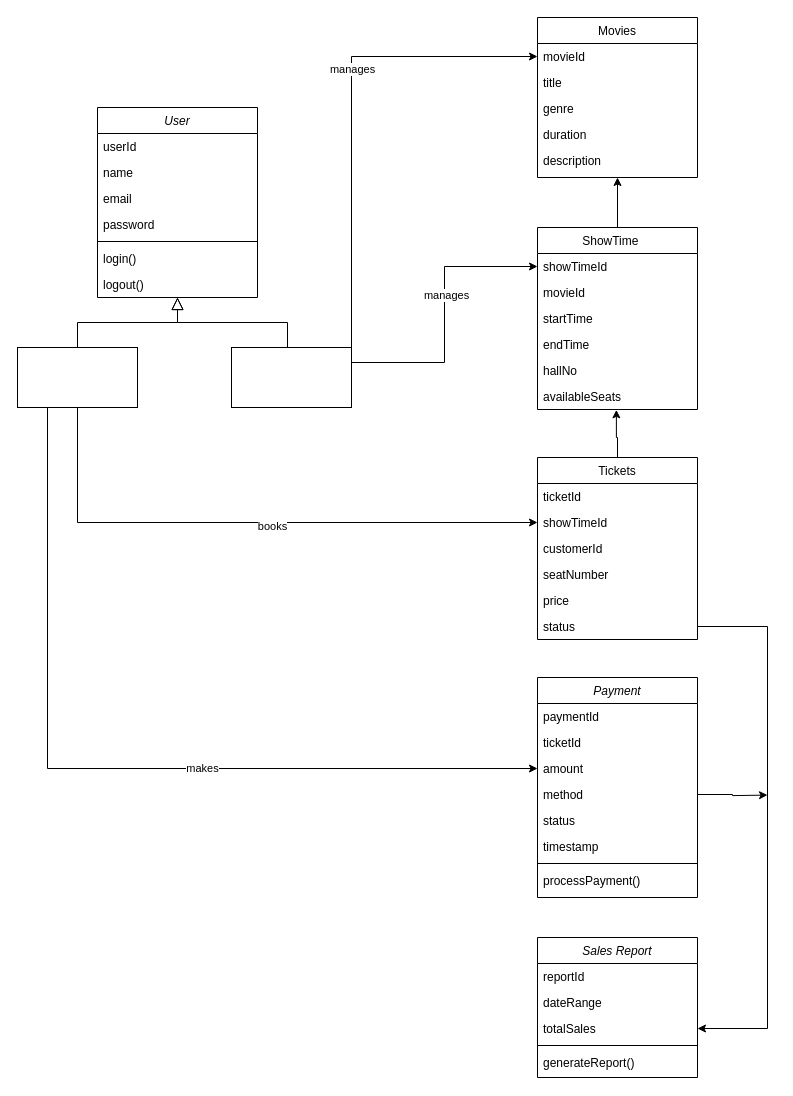
This 793x1096 diagram has some shape labels left out. The centre of each missing label's shape, as x and y in pixels:
Admin: the point at 291,377
Customer: the point at 77,377
